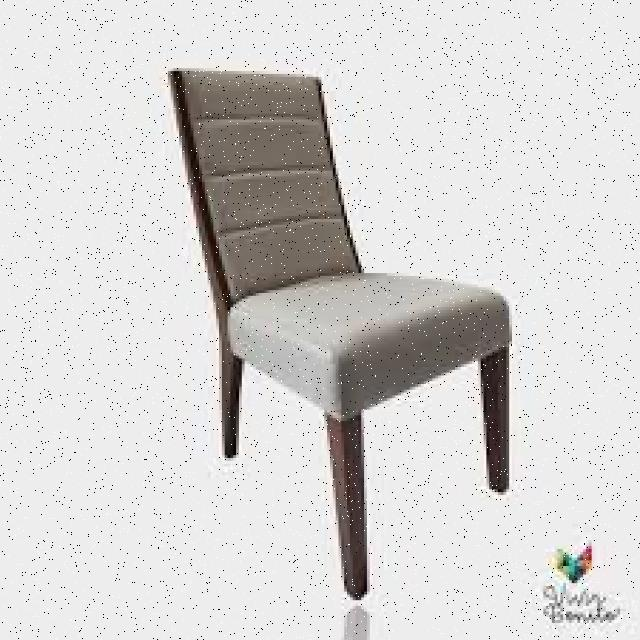bottle: (166, 60, 521, 605)
